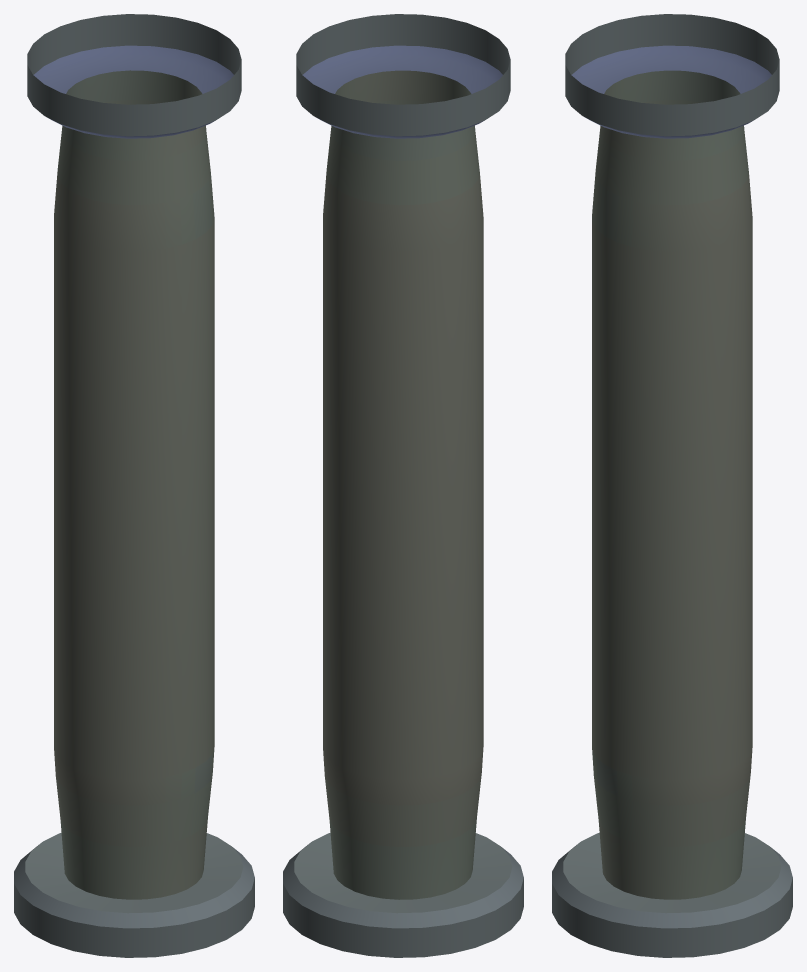
Rendered from Pillar.fbx.
The picture shows the model from 3 angles, left to right: view 1: azimuth 30°, elevation 25°; view 2: azimuth 150°, elevation 25°; view 3: azimuth 270°, elevation 25°; orthographic projection.
Parts seen in each view (by area): view 1: Pillar; view 2: Pillar; view 3: Pillar.
Boxes of the visible parts, x1,y1,x2,y2 form: Pillar: (14,14,254,957); Pillar: (283,14,523,957); Pillar: (552,14,792,957).
Size of the model in its own units: 71.46 by 277 by 71.34.
